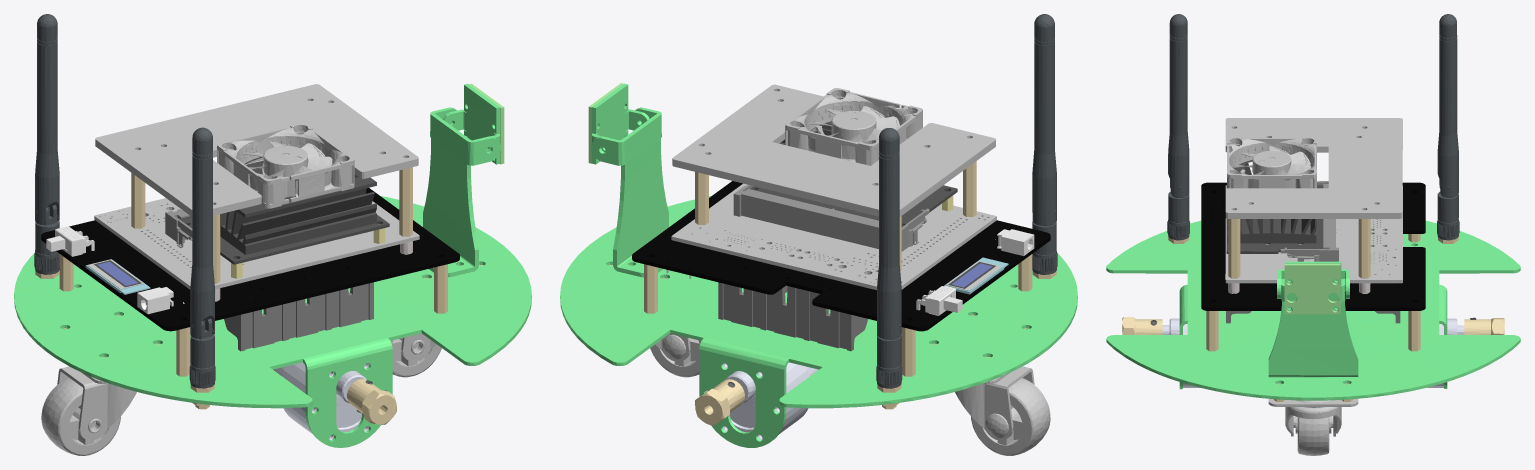
The picture shows the model from 3 angles, left to right: view 1: azimuth 30°, elevation 25°; view 2: azimuth 150°, elevation 25°; view 3: azimuth 270°, elevation 25°; orthographic projection. The views are drawn at different scales.
Parts seen in each view (by area): view 1: node875; view 2: node875; view 3: node875.
Boxes of the visible parts, <box> form: node875: <box>14,14,531,455</box>; node875: <box>560,14,1077,455</box>; node875: <box>1106,14,1520,455</box>.
Bounding box in the file's own units: 0.2004 × 0.1845 × 0.1572.
